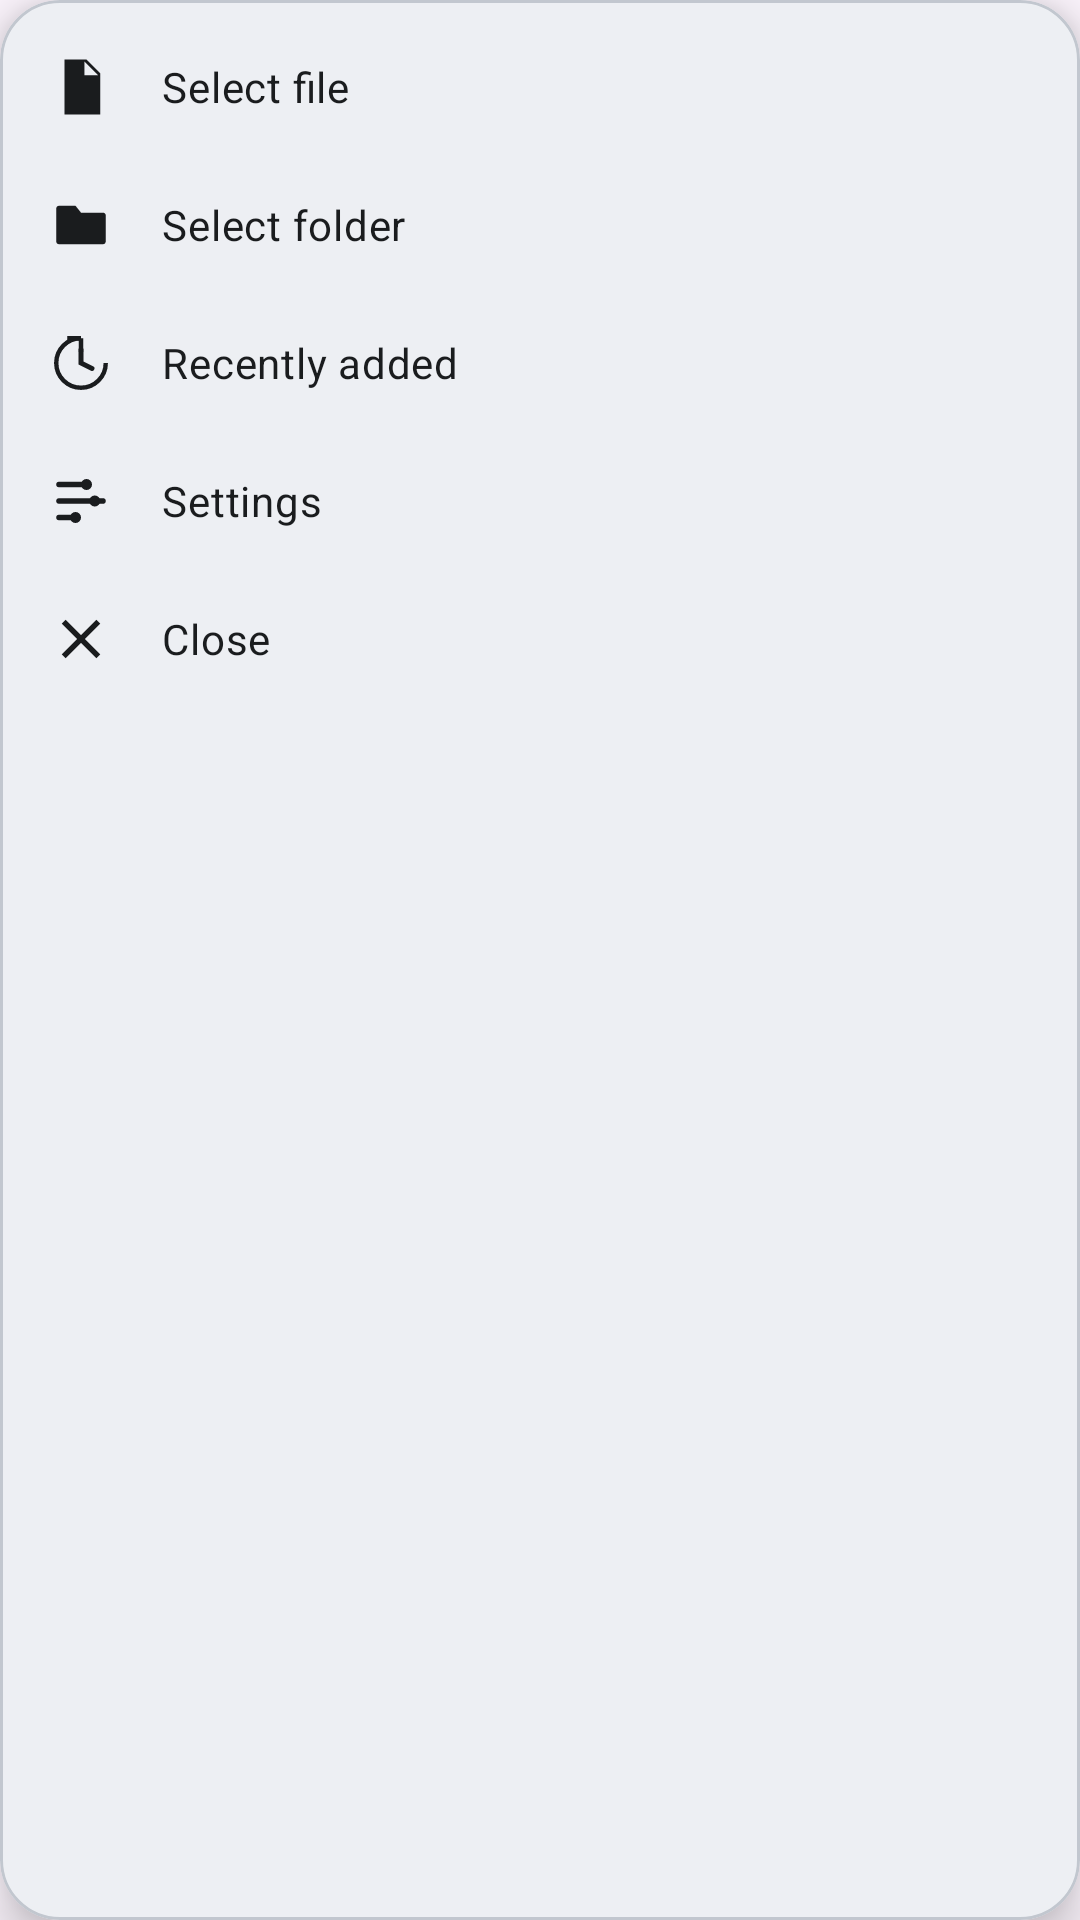

Named icons in this screenshot (1080px×1920px) and their bounding boxes, detection(x1, y1, x2, y2):
history: detection(54, 336, 108, 390)
